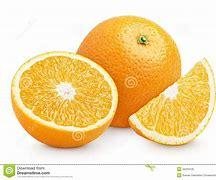orange: (79, 25, 189, 130), (3, 50, 118, 139), (132, 66, 215, 142)
